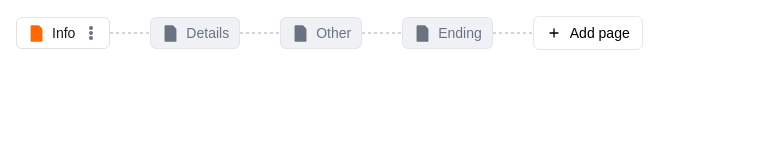
Scenario: PageNavigationContainer › Hover Add Button Integration › should add page in correct position when using hover button
The image size is (781, 160).
Hover over the 7th element with class "items-center" at (260, 33), box [240, 32, 280, 34]
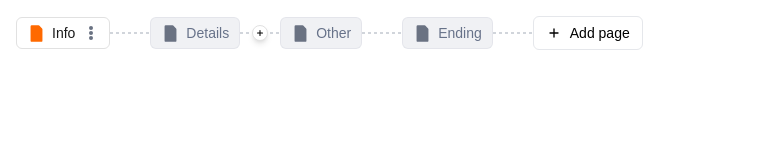
Click the button named "Add page after position 1" at (260, 33), box [252, 25, 268, 41]
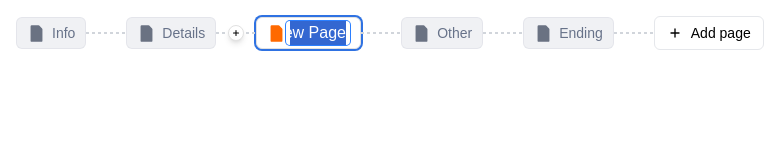
Check: the number of tabs is 5, box [16, 17, 86, 49]; [126, 17, 216, 49]; [256, 17, 361, 49]; [401, 17, 483, 49]; [523, 17, 614, 49]
